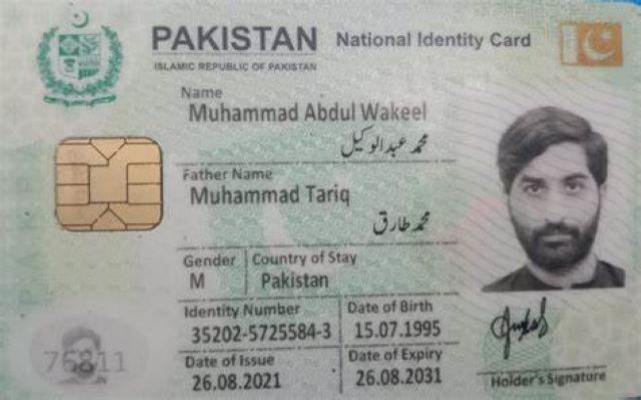fname: (186, 182, 352, 211)
name: (182, 98, 432, 127)
number: (187, 321, 337, 345)
